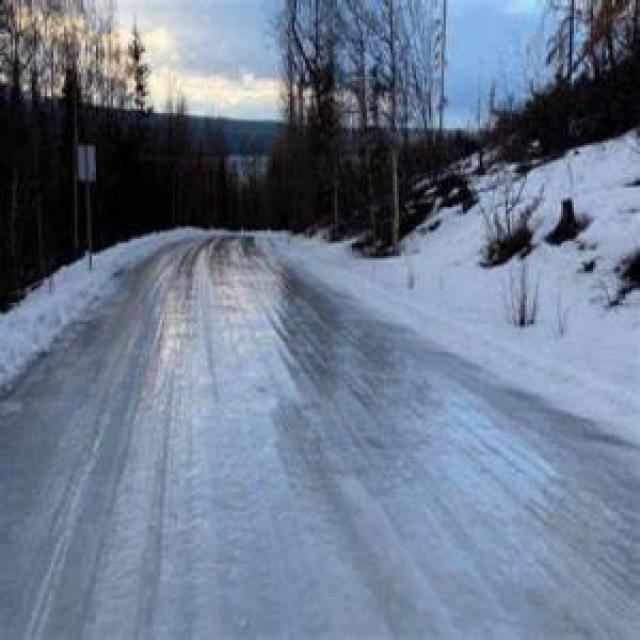ice-road: (0, 233, 640, 640)
